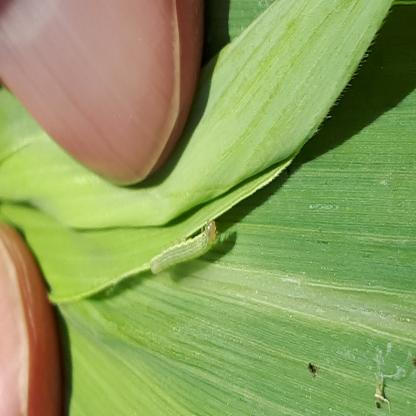armyworm: (74, 260, 110, 406)
